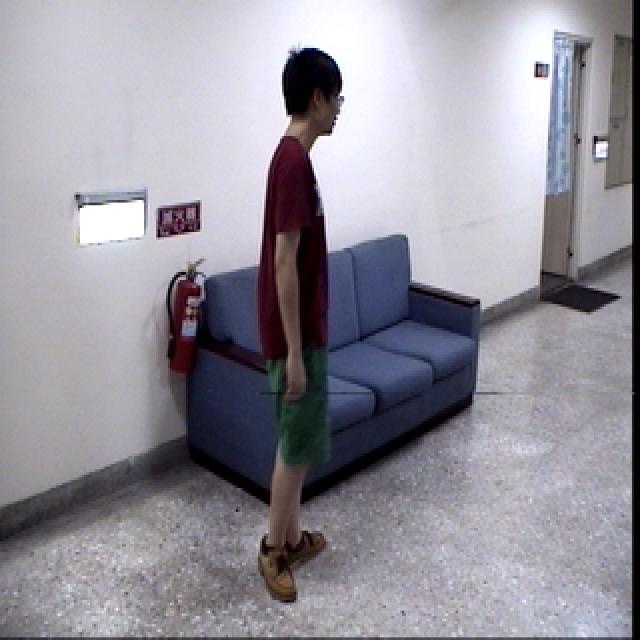stand: (258, 41, 356, 624)
